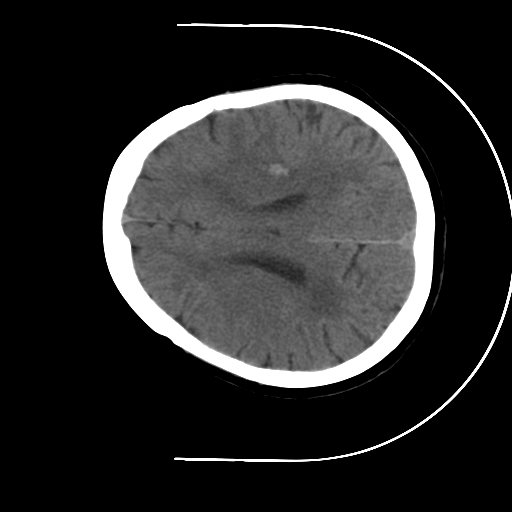a: (250, 150, 301, 190)
